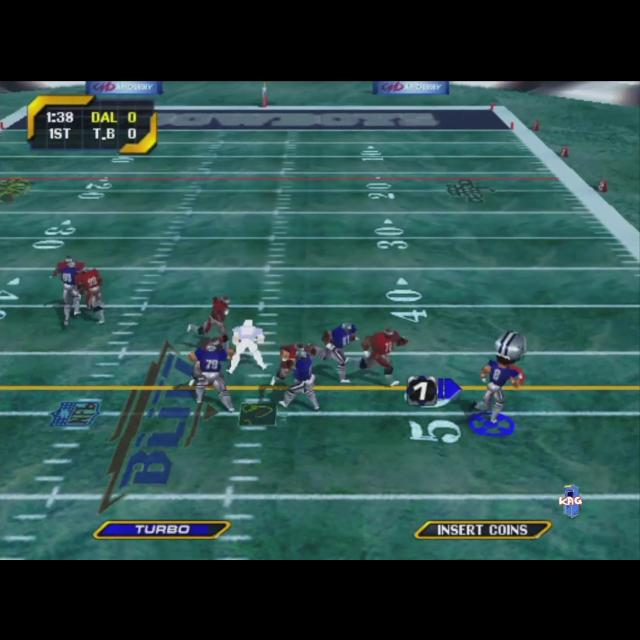player: (472, 330, 528, 424), (346, 328, 408, 386), (188, 339, 234, 411), (278, 346, 320, 409), (314, 322, 358, 382), (52, 256, 86, 324), (188, 296, 230, 348), (228, 319, 268, 373), (74, 265, 106, 323), (270, 343, 312, 385)
